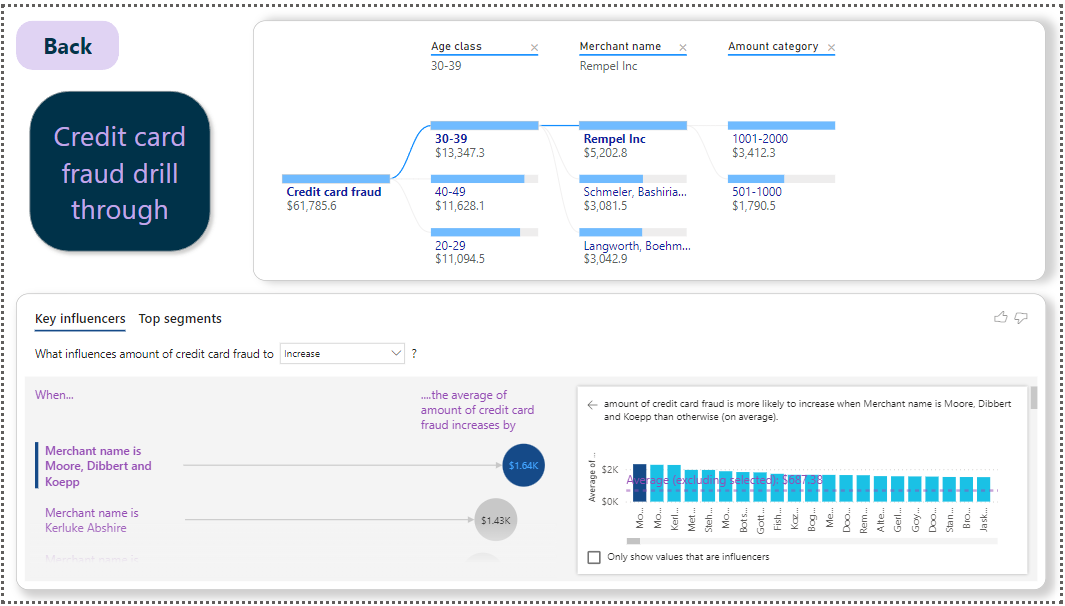

What the dashboard file says about the page in this screenshot:
{"tool":"powerbi","page":{"name":"CC dril through","canvas":[1280,720],"ordinal":6},"visuals":[{"type":"actionButton","box":[15,16.7,125,60],"z":1000},{"type":"decompositionTreeVisual","fields":{"Analyze":["fraud_dwh f_transaction.amount of credit card fraud"],"ExplainBy":["fraud_dwh f_transaction.age_category","fraud_dwh d_merchant.merchant_name","fraud_dwh f_transaction.amount_category"]},"box":[301.9,17,960.4,315.1],"z":2000},{"type":"keyDriversVisual","fields":{"ExplainBy":["fraud_dwh d_city.city_name","fraud_dwh f_transaction.age_category","fraud_dwh f_transaction.amount_category","fraud_dwh d_merchant.merchant_name"],"Target":["fraud_dwh f_transaction.amount of credit card fraud"]},"box":[14.8,346.4,1248.7,359.6],"z":3000},{"type":"actionButton","box":[21.4,92.4,237.5,212.8],"z":4000}]}

Visuals, with their boxes in screenshot pixels (x1, y1, x2, y2), scaled from the page's 1280x720 canvas onto the 1065x606 screenshot:
actionButton: <region>12, 14, 116, 65</region>
decompositionTreeVisual - fraud_dwh f_transaction.amount of credit card fraud x fraud_dwh f_transaction.age_category: <region>251, 14, 1050, 280</region>
keyDriversVisual - fraud_dwh d_city.city_name x fraud_dwh f_transaction.age_category: <region>12, 292, 1051, 594</region>
actionButton: <region>18, 78, 215, 257</region>
